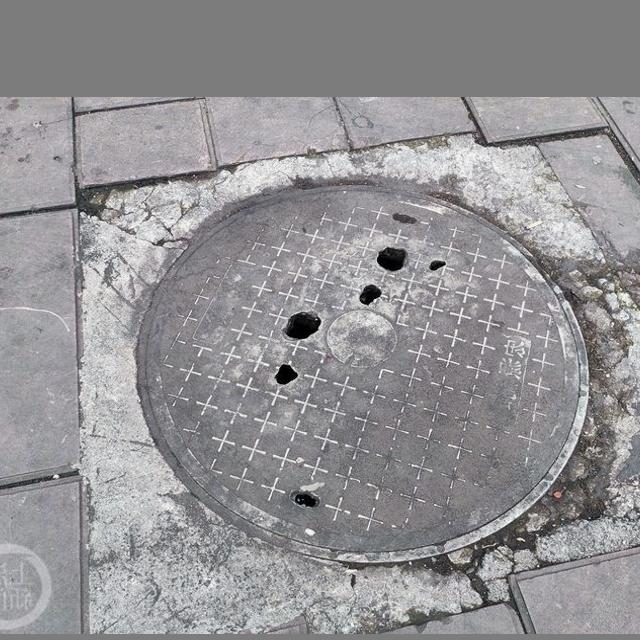circle: (60, 128, 640, 621)
